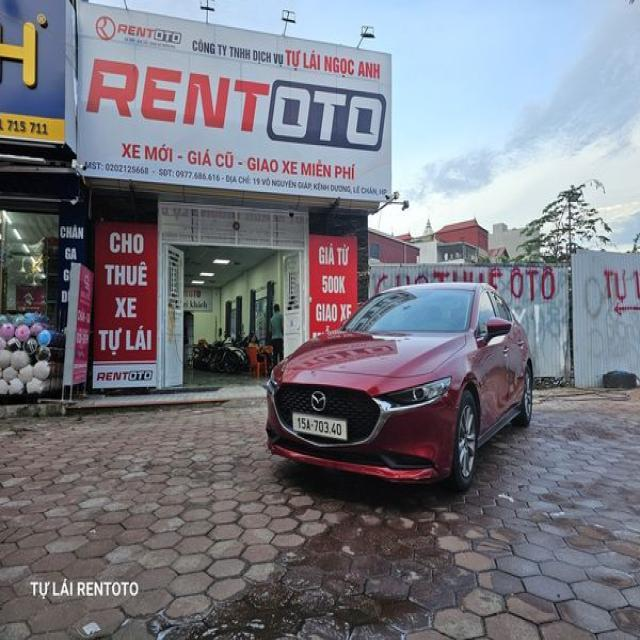car: (259, 282, 542, 493)
plate: (290, 409, 349, 442)
